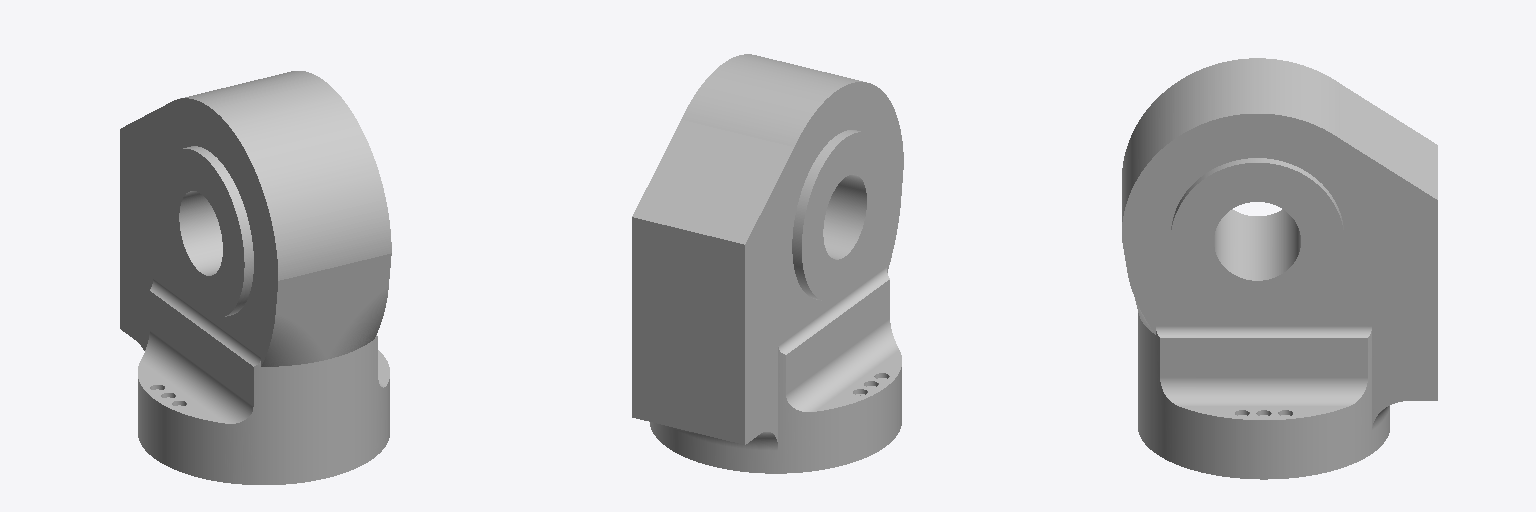
File: joint1.obj
3 renders of one model, left to right at view 1: azimuth 30°, elevation 25°; view 2: azimuth 150°, elevation 25°; view 3: azimuth 270°, elevation 25°, orthographic.
Parts seen in each view (by area): view 1: Joint1; view 2: Joint1; view 3: Joint1.
Boxes of the visible parts, x1=… form: Joint1: x1=120, y1=71, x2=391, y2=484; Joint1: x1=632, y1=54, x2=903, y2=473; Joint1: x1=1122, y1=58, x2=1437, y2=479.
Bounding box in the file's own units: 11.6 × 17.23 × 14.55.